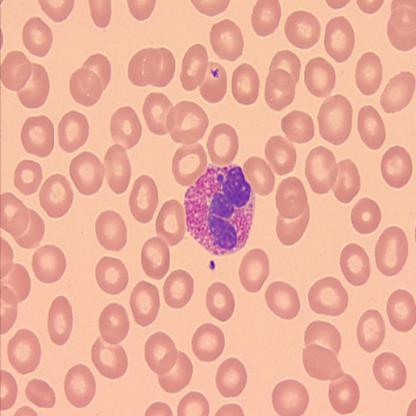Eosinophil: (183, 163, 253, 256)
